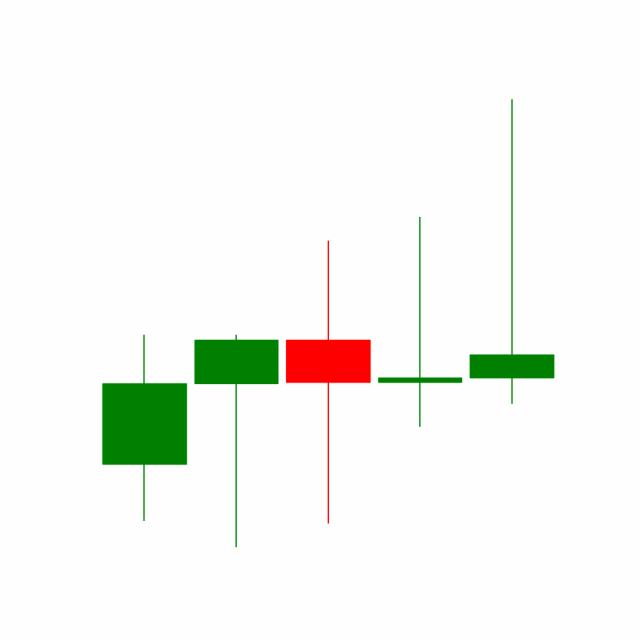Spinning Top: (464, 95, 558, 406)
